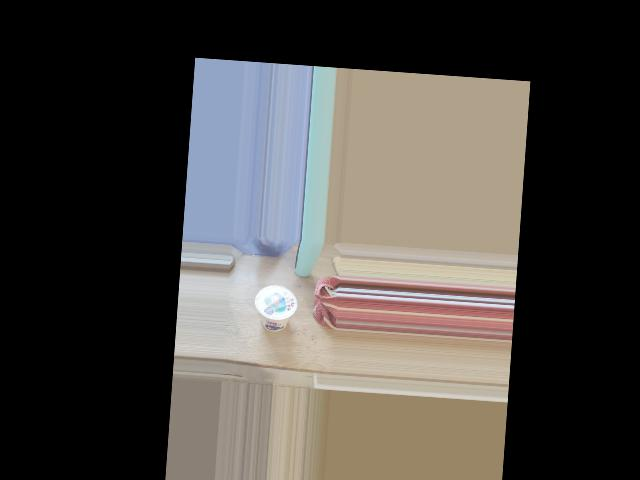cotage: (255, 281, 296, 334)
